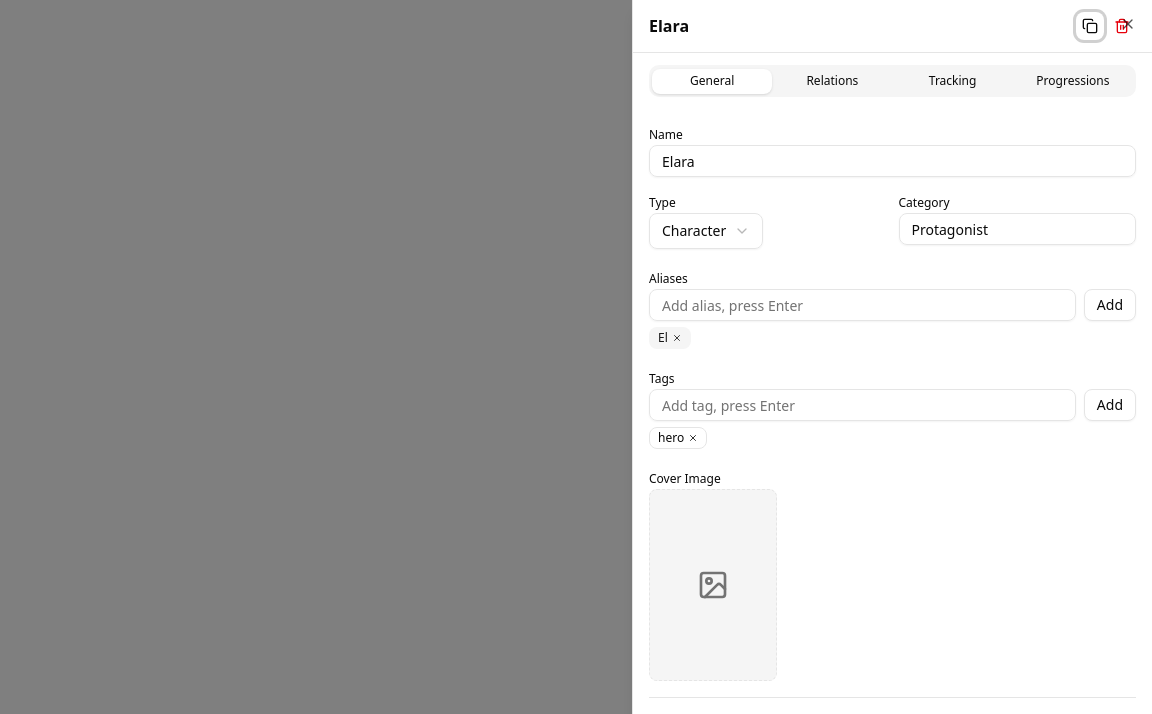
Test: EntryEditor — edit mode tabs › Relations tab: renders an existing relation
Click the tab "Relations".
click(832, 81)  # box [772,68,893,94]
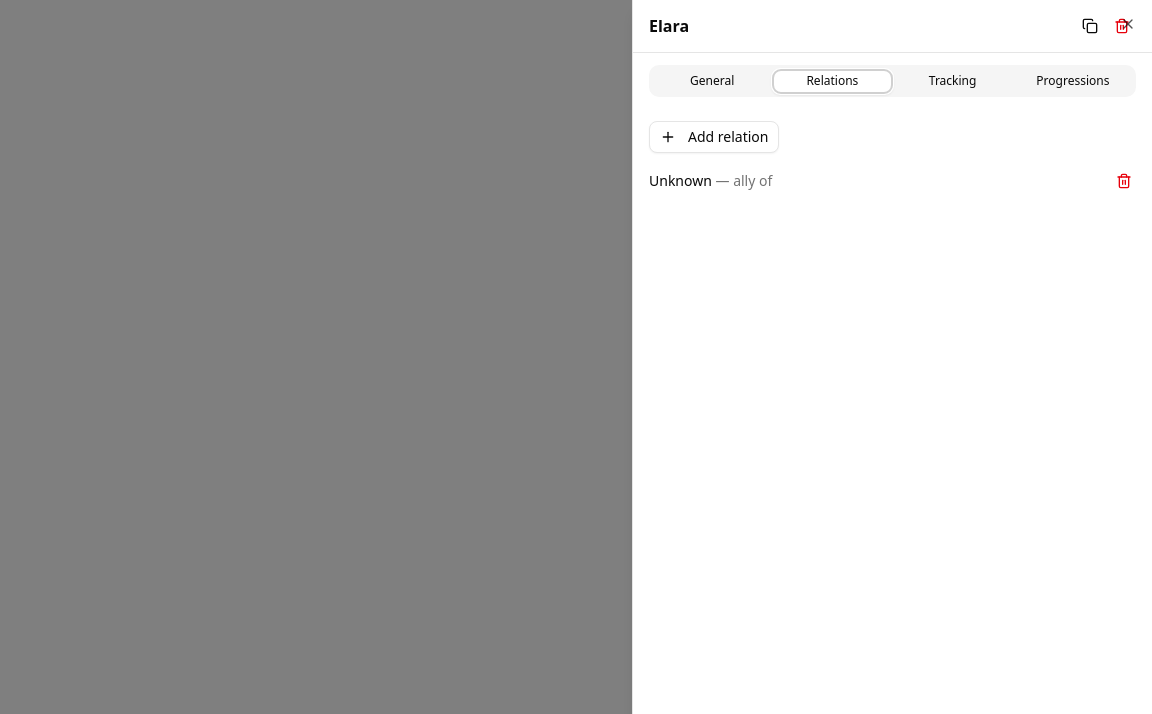
Check: the text "— ally of" is shown, box [712,171,772,190]
